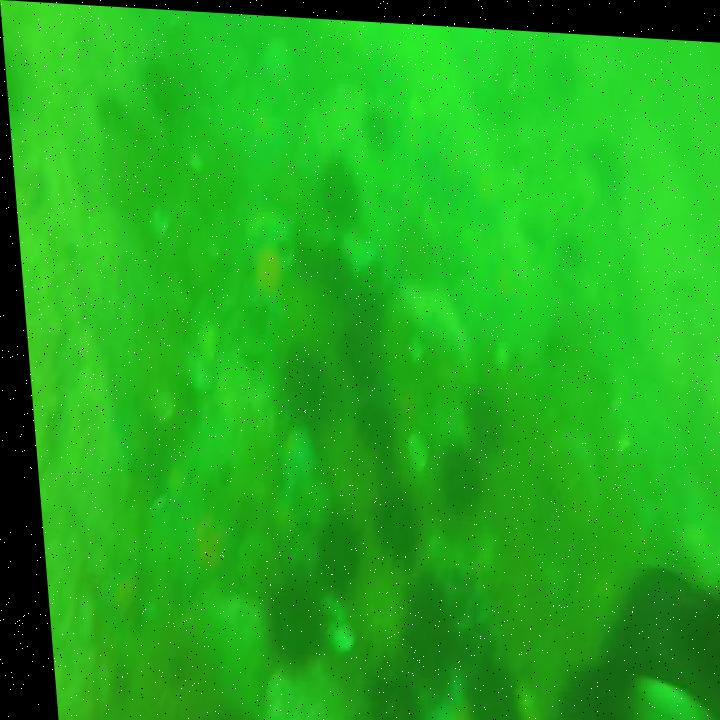echinus: (393, 571, 450, 691), (251, 574, 317, 670), (306, 509, 367, 597), (450, 655, 516, 720), (346, 657, 412, 720), (267, 349, 319, 426), (366, 481, 409, 558), (326, 317, 377, 379), (310, 158, 357, 222), (435, 444, 478, 512), (350, 374, 386, 449), (307, 252, 354, 307), (459, 387, 498, 443), (361, 105, 392, 142)
scallop: (317, 596, 347, 651), (177, 349, 211, 396), (399, 425, 423, 470), (142, 393, 172, 424), (189, 321, 220, 350)
